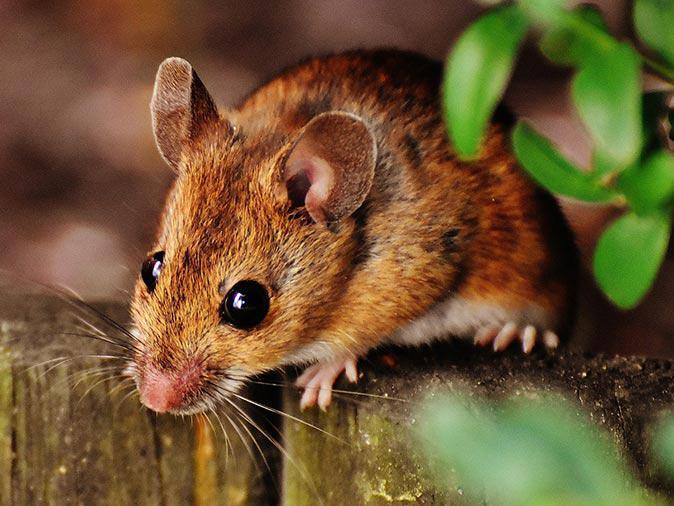rat: (132, 55, 581, 416)
